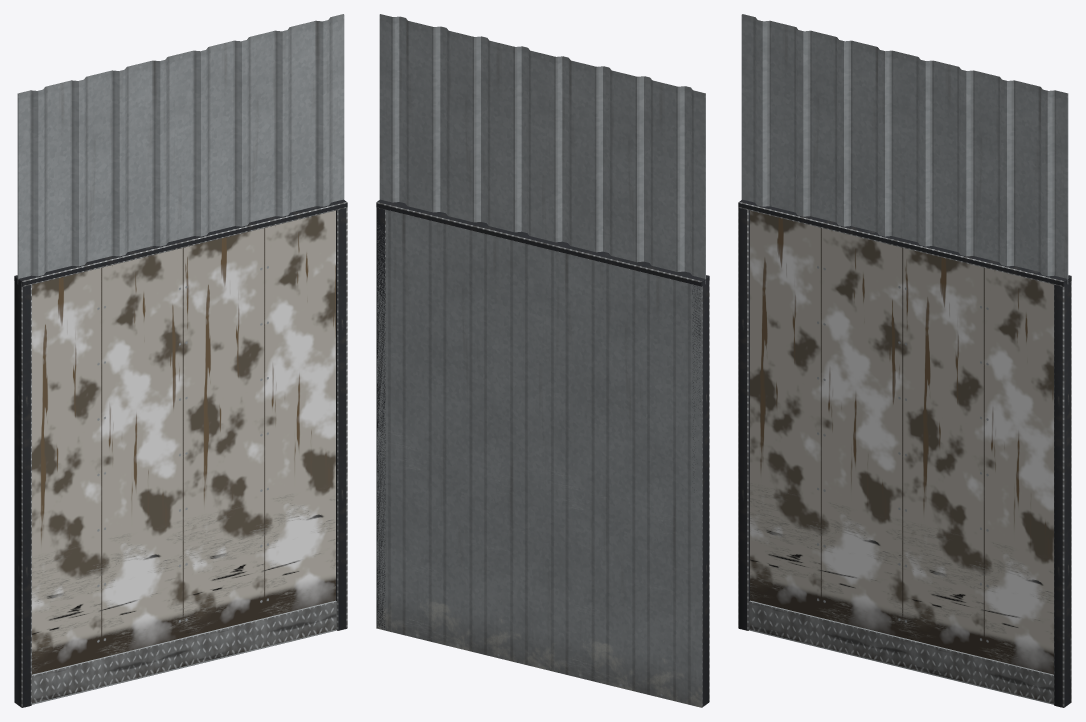
Rendered from Corridor_ShortWall.fbx.
3 views of the same model, side by side, from view 1: azimuth 30°, elevation 25°; view 2: azimuth 150°, elevation 25°; view 3: azimuth 330°, elevation 25° (orthographic).
Visible parts, largest first — view 1: Facade, Panel, Trim; view 2: Panel, Trim; view 3: Facade, Panel, Trim.
Part boxes in pixels (x1,y1,x2,y2): Facade: (32, 210, 335, 674); Panel: (14, 14, 344, 702); Trim: (14, 199, 347, 707); Panel: (376, 14, 705, 707); Trim: (376, 199, 709, 707); Facade: (750, 210, 1053, 674); Panel: (741, 14, 1071, 702); Trim: (738, 199, 1071, 707).
Size of the model in its own units: 8 by 14.35 by 0.35.
3 materials, 3 textured.
